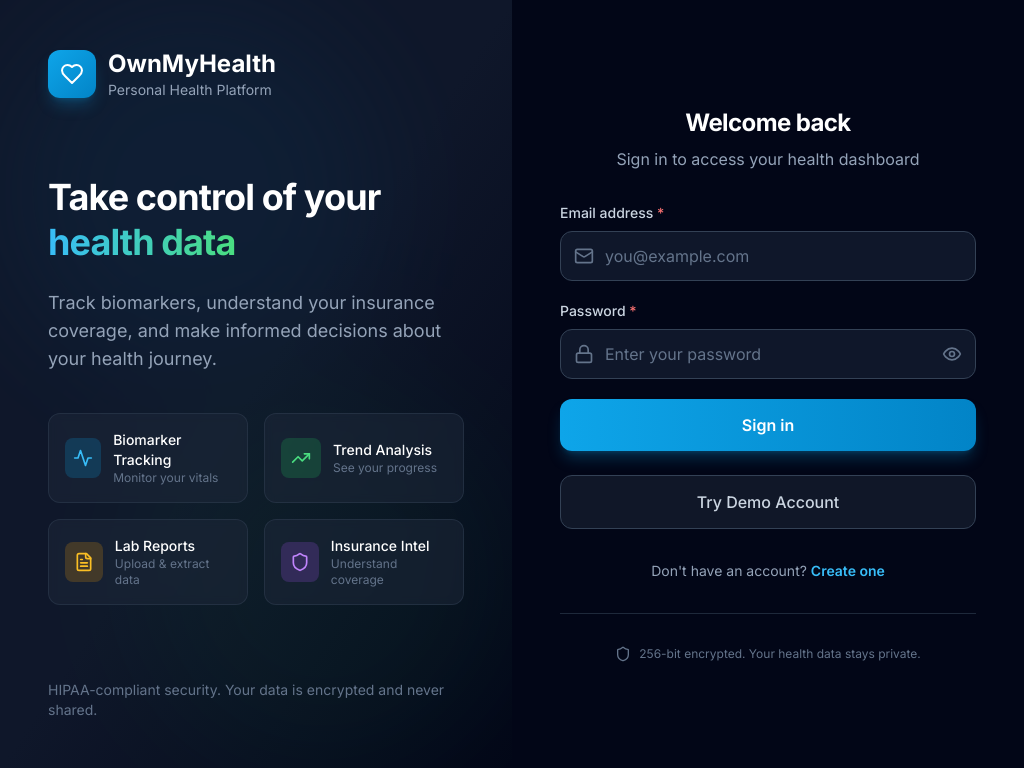
Test: LoginPage › Form Validation › should show error for invalid email format
// Use fireEvent to set values
Type "invalid-email" into the field labelled "Email address *". click: (768, 256)
box: [560,230,976,280]
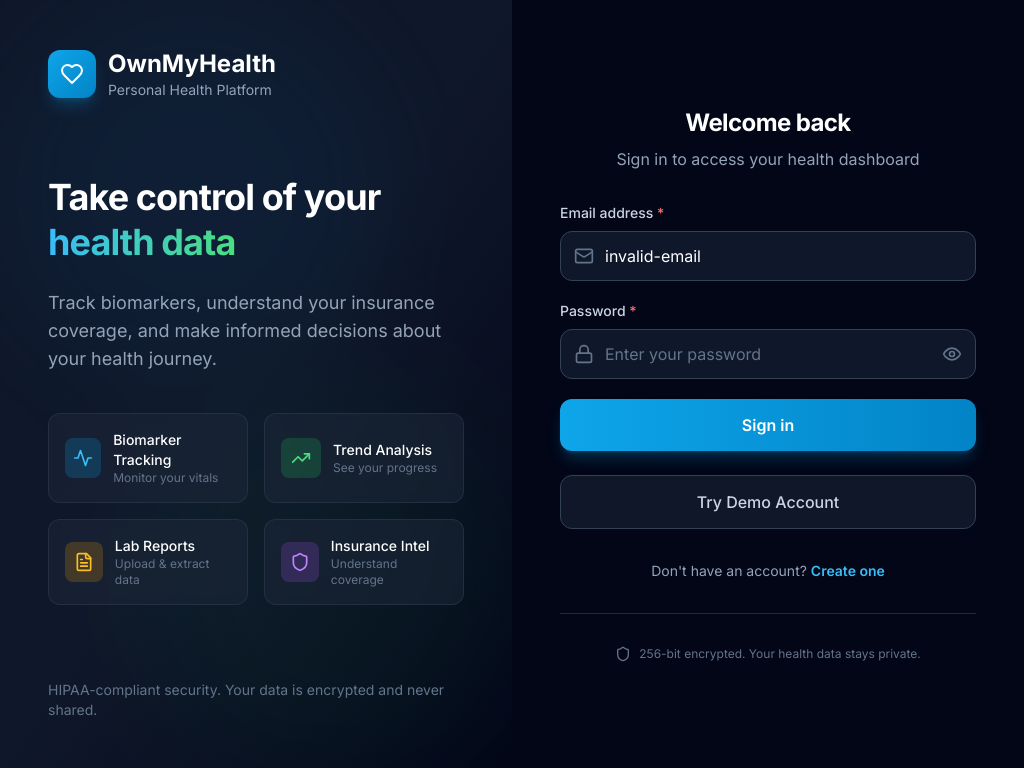
Type "password123" into the password field labelled "Password *". click: (768, 354)
box: [560,328,976,378]
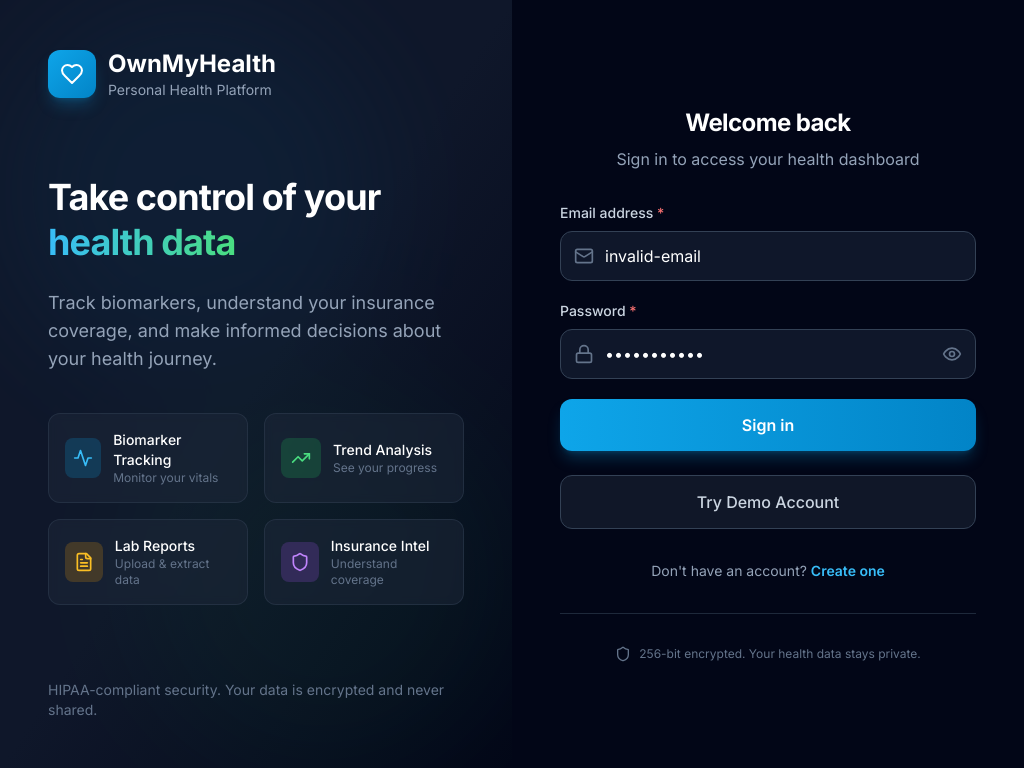
Submit the form labelled "Email address * Password * Sign in", box [560,202,976,450]
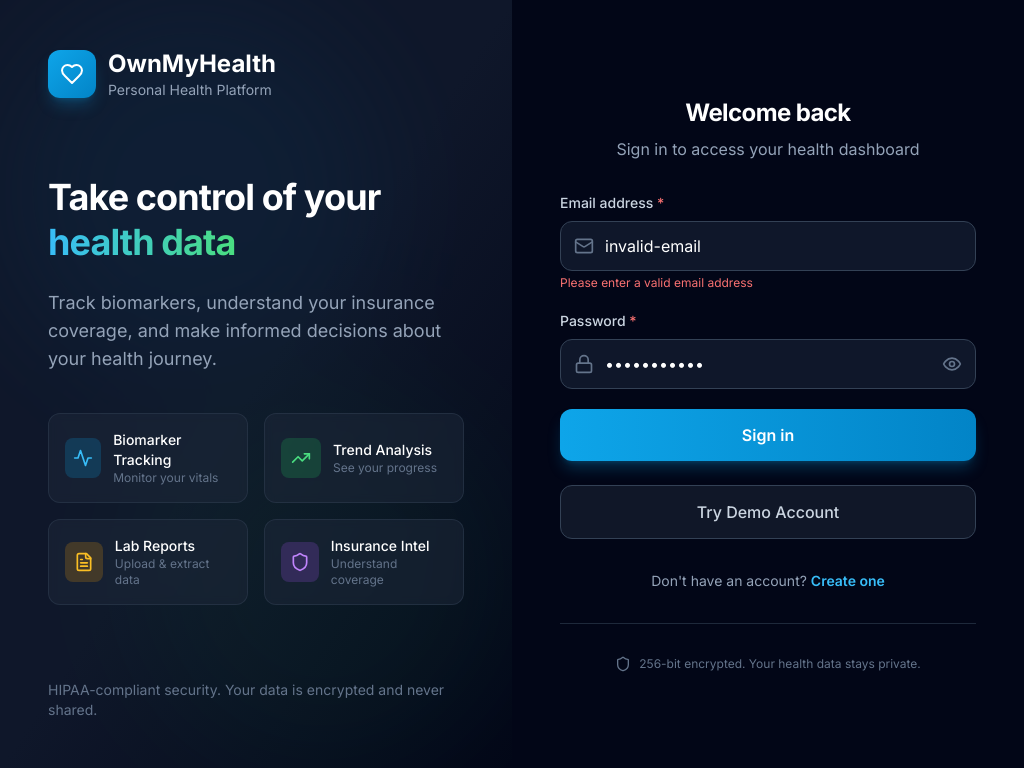
Result: the text "Please enter a valid email address" is shown at [560,274,753,290]
